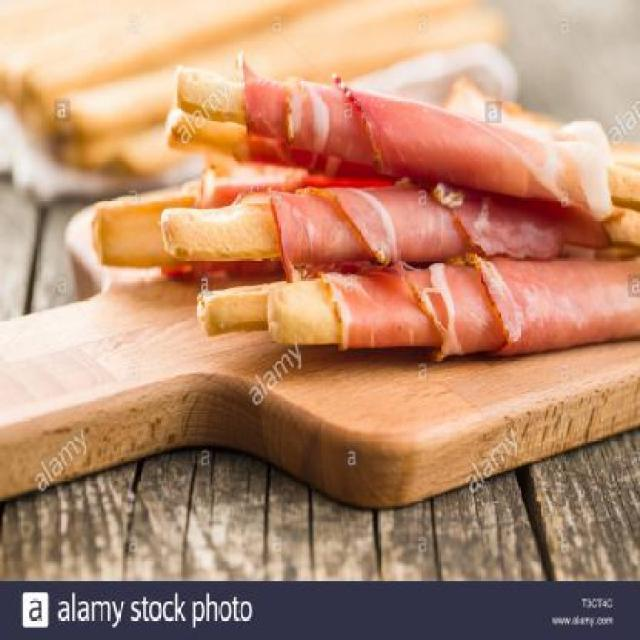Grissini: (80, 61, 640, 360)
